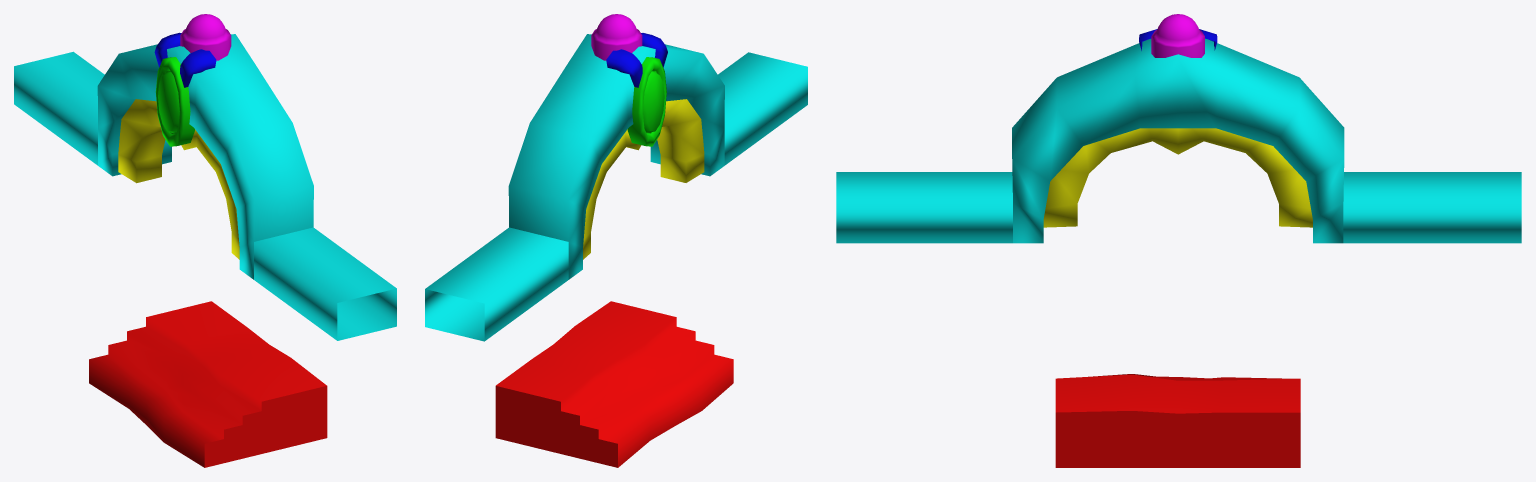
File: Gate_Low.fbx
The picture shows the model from 3 angles, left to right: view 1: azimuth 30°, elevation 25°; view 2: azimuth 150°, elevation 25°; view 3: azimuth 270°, elevation 25°; orthographic projection. The views are drawn at different scales.
Parts seen in each view (by area): view 1: Gate_7_low, Gate_1_low, Gate_9_low, Gate_8_low, Gate_4_low, Gate_6_low, Gate_2_low, Gate_3_low; view 2: Gate_7_low, Gate_1_low, Gate_8_low, Gate_9_low, Gate_4_low, Gate_6_low, Gate_2_low, Gate_3_low; view 3: Gate_1_low, Gate_7_low, Gate_8_low, Gate_9_low, Gate_4_low, Gate_2_low.
Boxes of the visible parts, x1,y1,x2,y2 form: Gate_7_low: (89, 301, 327, 467); Gate_1_low: (97, 34, 313, 279); Gate_9_low: (254, 227, 396, 340); Gate_8_low: (14, 51, 104, 165); Gate_4_low: (118, 99, 239, 259); Gate_6_low: (155, 57, 194, 146); Gate_2_low: (180, 14, 231, 60); Gate_3_low: (154, 32, 216, 87); Gate_7_low: (495, 301, 733, 467); Gate_1_low: (508, 34, 724, 279); Gate_8_low: (425, 227, 568, 341); Gate_9_low: (718, 52, 807, 165); Gate_4_low: (583, 99, 704, 259); Gate_6_low: (627, 57, 666, 146); Gate_2_low: (591, 14, 642, 60); Gate_3_low: (606, 33, 667, 87); Gate_1_low: (1012, 38, 1344, 243); Gate_7_low: (1055, 374, 1300, 467); Gate_8_low: (1343, 172, 1521, 243); Gate_9_low: (836, 172, 1012, 243); Gate_4_low: (1043, 128, 1312, 227); Gate_2_low: (1151, 14, 1204, 57).
Bounding box in the file's own units: 254 × 755 × 1120.
